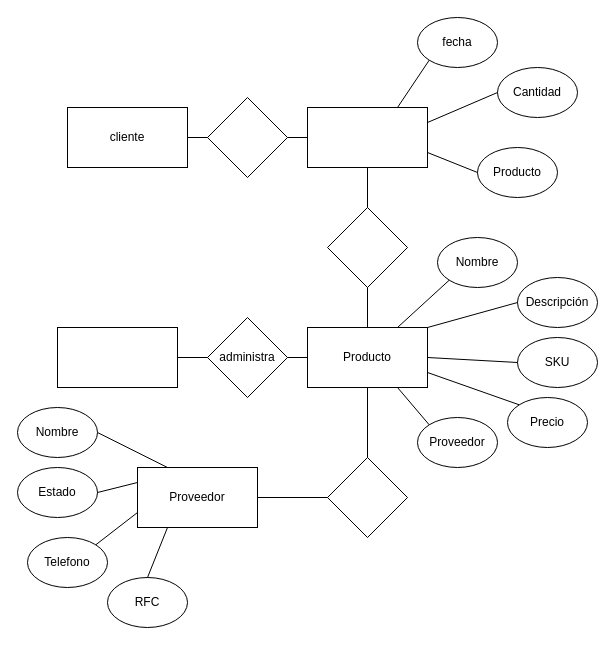
Some shapes in this 615 by 645 pixel diagram are drawn without their labels. Here are the shapes that lost their labels. From the top down, the centre of each, then its label:
At (247,137): "Realiza".
At (367,137): "Compra".
At (367,247): "Contiene".
At (117,357): "Admin".
At (367,497): "Suministra".
